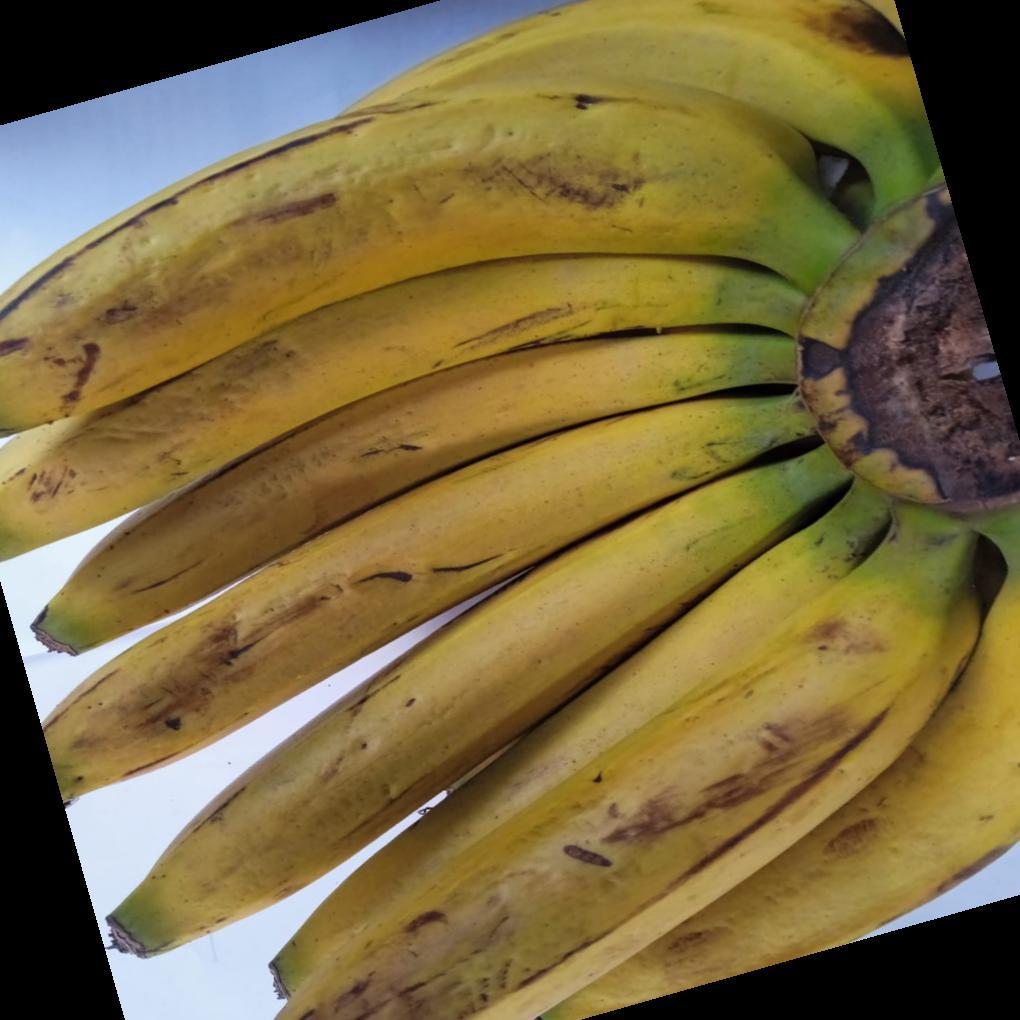Banana Ripe: (19, 40, 1020, 1020)
